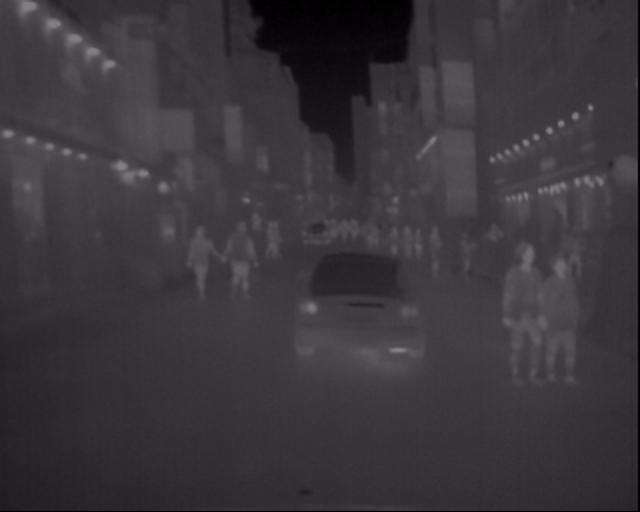person: (501, 240, 557, 395), (542, 244, 592, 392), (231, 219, 258, 295), (194, 228, 217, 295), (428, 229, 448, 273)
